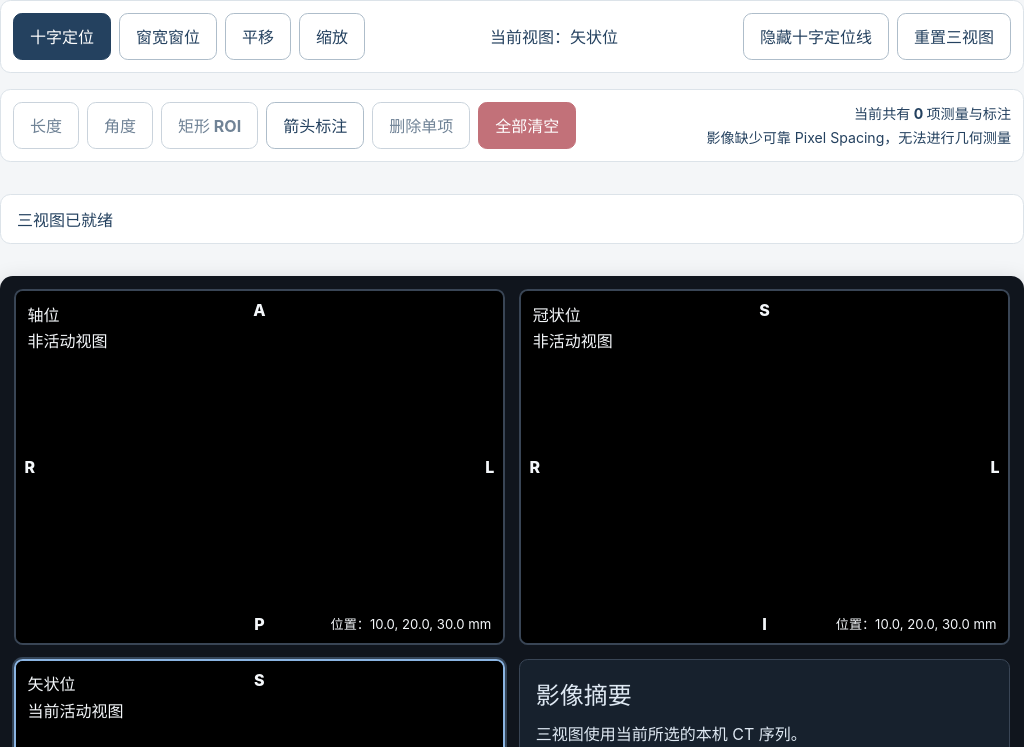
Test: resets React state before the runtime reports the real volume center
The width and height of the screenshot is (1024, 747).
Step 1. Click the button "平移" → point(258, 36), box [225, 13, 291, 60]
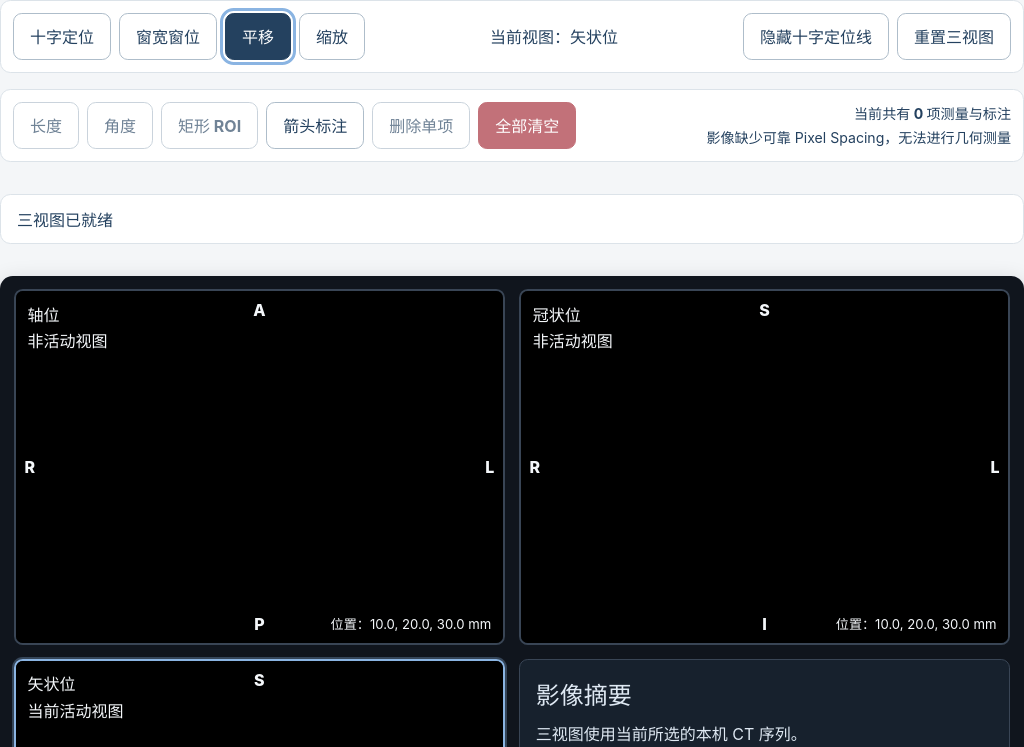
Step 2. Click the button "隐藏十字定位线" → point(816, 36), box [743, 13, 889, 60]
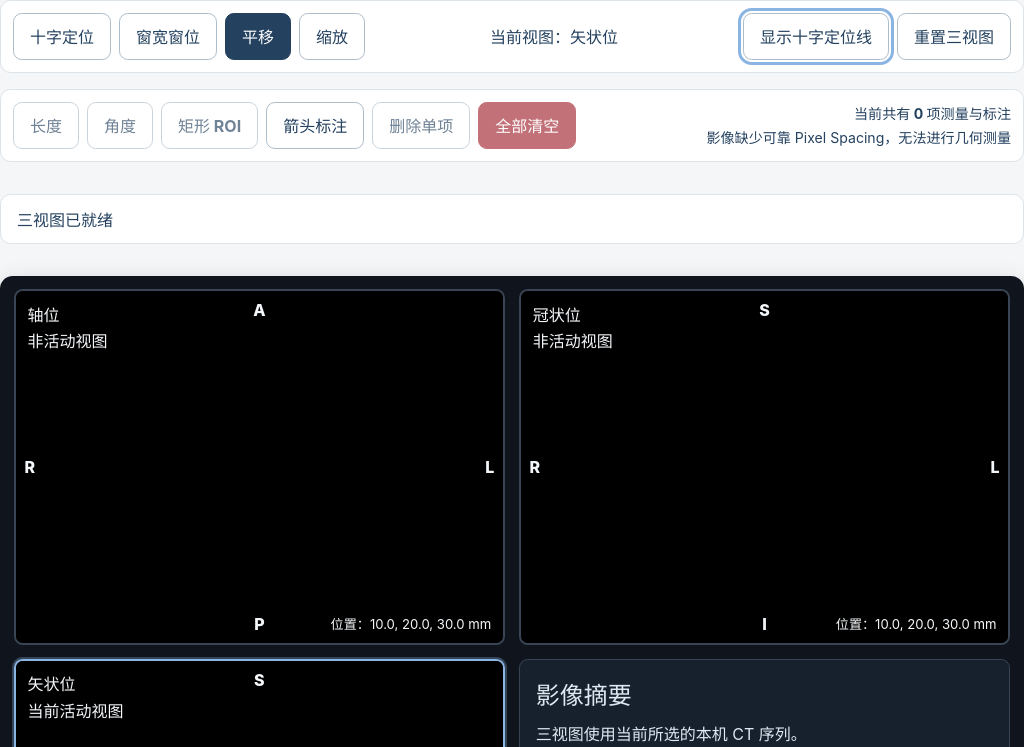
Step 3. Click the button "重置三视图" → point(954, 36), box [897, 13, 1011, 60]
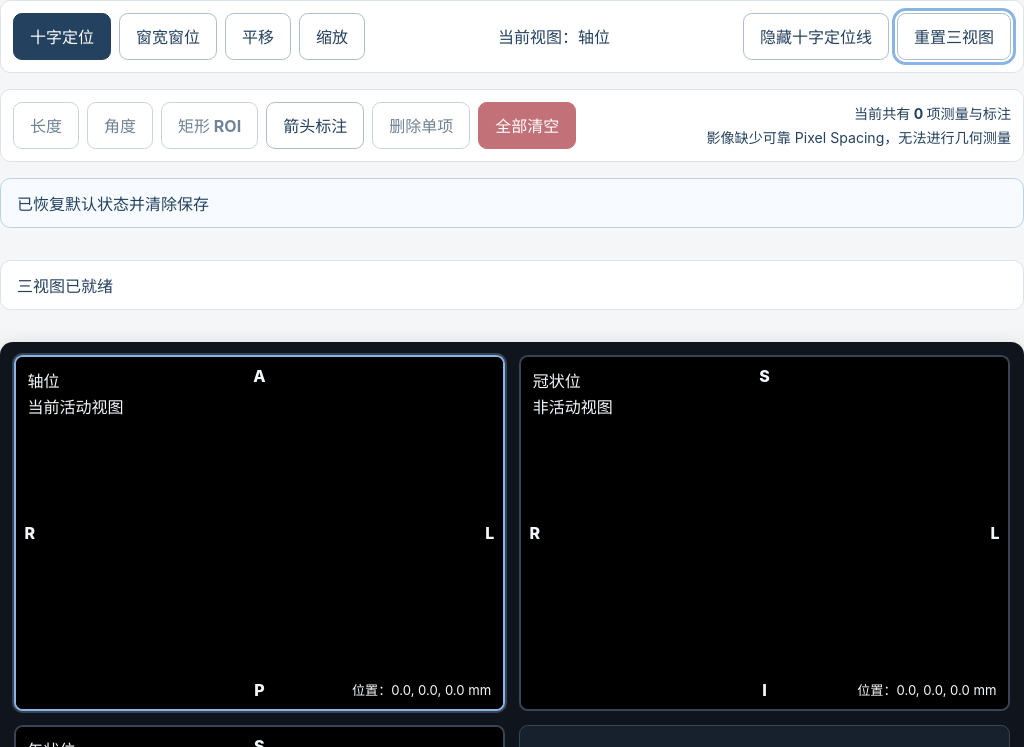
Expected: the button "隐藏十字定位线" is enabled, [743, 13, 889, 60]
Now the text "当前视图：轴位" is shown, box [498, 24, 610, 48]
